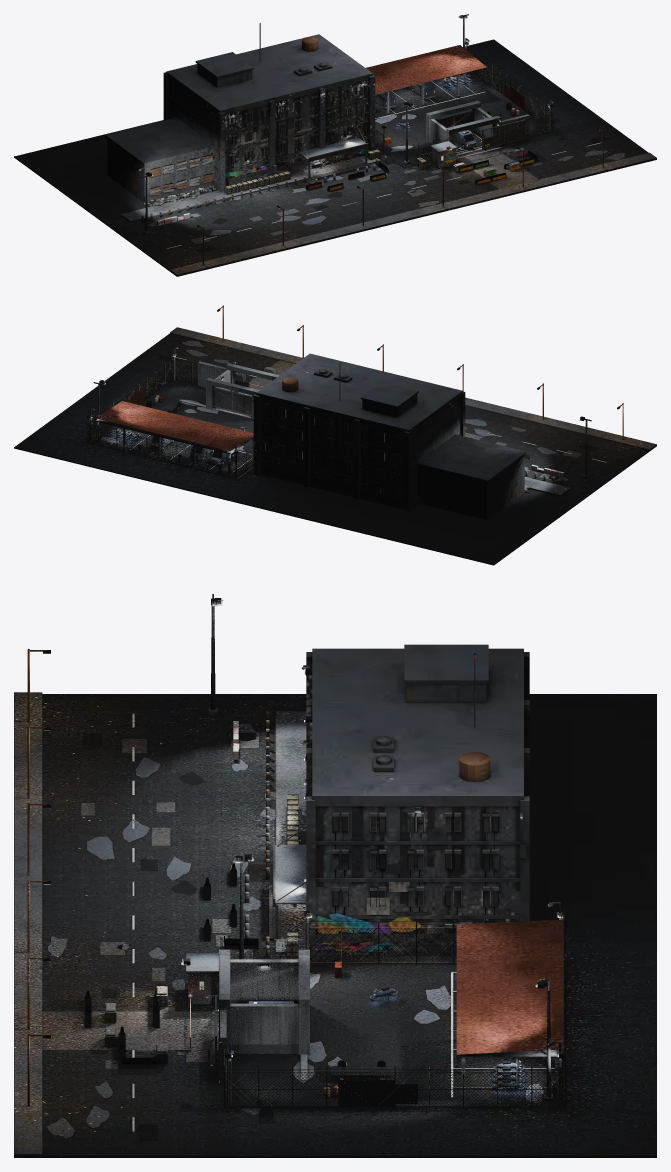
The model's file is enforcement_low_low.glb.
3 renders of one model, top to bottom at view 1: azimuth 30°, elevation 25°; view 2: azimuth 150°, elevation 25°; view 3: azimuth 270°, elevation 25°, orthographic. The views are drawn at different scales.
Visible parts, largest first — view 1: site_ground, walls_ext, props_motorpool, props_gate, props_security, props_lights, props_counter, props_vehicles; view 2: site_ground, walls_ext, props_motorpool, props_gate, props_lights, props_vehicles, props_security; view 3: site_ground, walls_ext, props_motorpool, props_gate, props_security, props_lights, props_counter, props_vehicles.
Boxes of the visible parts, box(x1,y1,x2,y2) form: site_ground: box(14, 39, 656, 276); walls_ext: box(105, 23, 375, 202); props_motorpool: box(366, 45, 555, 162); props_gate: box(426, 101, 529, 167); props_security: box(139, 38, 552, 225); props_lights: box(141, 14, 603, 264); props_counter: box(298, 124, 368, 179); props_vehicles: box(375, 73, 476, 148); site_ground: box(14, 327, 656, 565); walls_ext: box(253, 353, 526, 520); props_motorpool: box(85, 358, 253, 478); props_gate: box(180, 361, 279, 419); props_lights: box(87, 305, 623, 478); props_vehicles: box(111, 392, 251, 464); props_security: box(90, 347, 564, 492); site_ground: box(14, 692, 656, 1157); walls_ext: box(300, 644, 529, 955); props_motorpool: box(220, 919, 570, 1107); props_gate: box(186, 949, 309, 1083); props_security: box(84, 665, 561, 1105); props_lights: box(27, 594, 565, 1106); props_counter: box(269, 827, 306, 940); props_vehicles: box(246, 987, 524, 1094).
Size of the model in its own units: 96 by 22.79 by 56.5.
8 materials, 8 textured.
